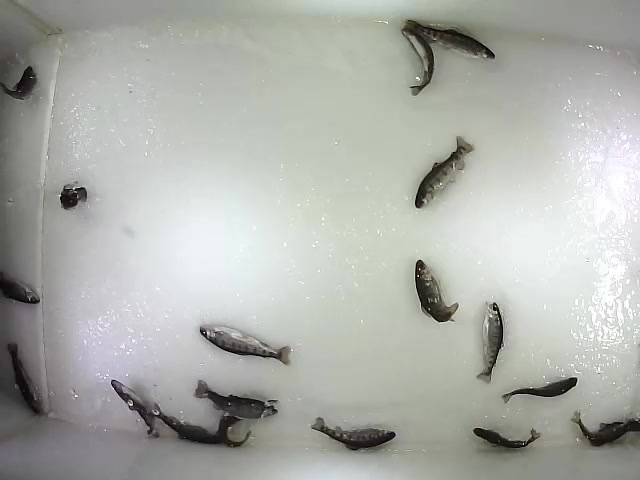fish: (413, 134, 476, 210), (198, 322, 295, 367), (403, 18, 497, 62), (191, 378, 282, 420), (110, 378, 163, 440), (308, 416, 398, 452), (414, 258, 460, 326), (6, 342, 46, 419), (147, 403, 216, 446), (399, 25, 437, 99), (475, 300, 505, 385), (500, 376, 580, 405), (471, 426, 544, 448), (216, 415, 252, 449), (59, 182, 90, 211)
